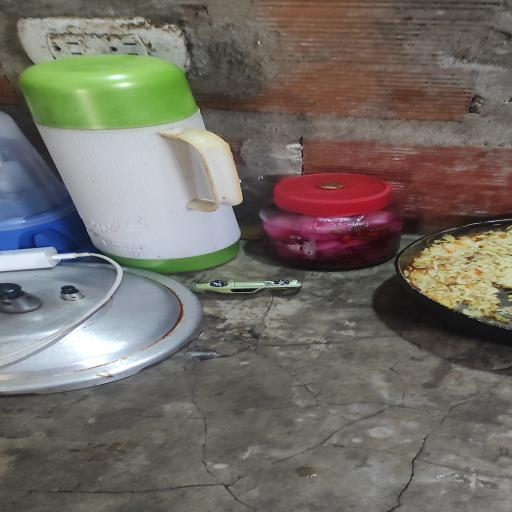Carrito: (192, 279, 302, 294)
